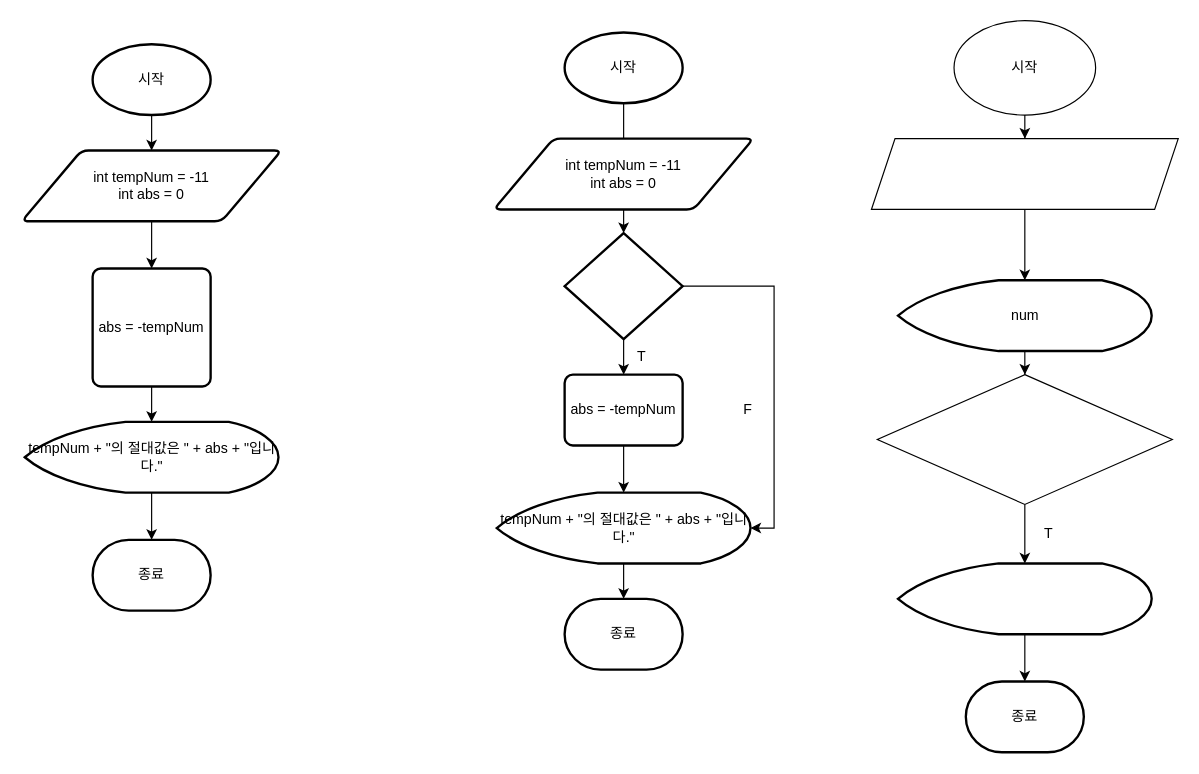
Image size: 1199x774. Some labels were removed from this diagram. The shapes that lost their labels are listed below. From the top down, each one's box as (x1, y1, x2, y2) in pixels, then its label:
(870, 137, 1178, 209): int num = Integer.parseInt(args[1])
(563, 231, 683, 340): tempNum < 0
(876, 373, 1172, 504): 0 < num && num < 100
(896, 562, 1152, 635): 유효점수
